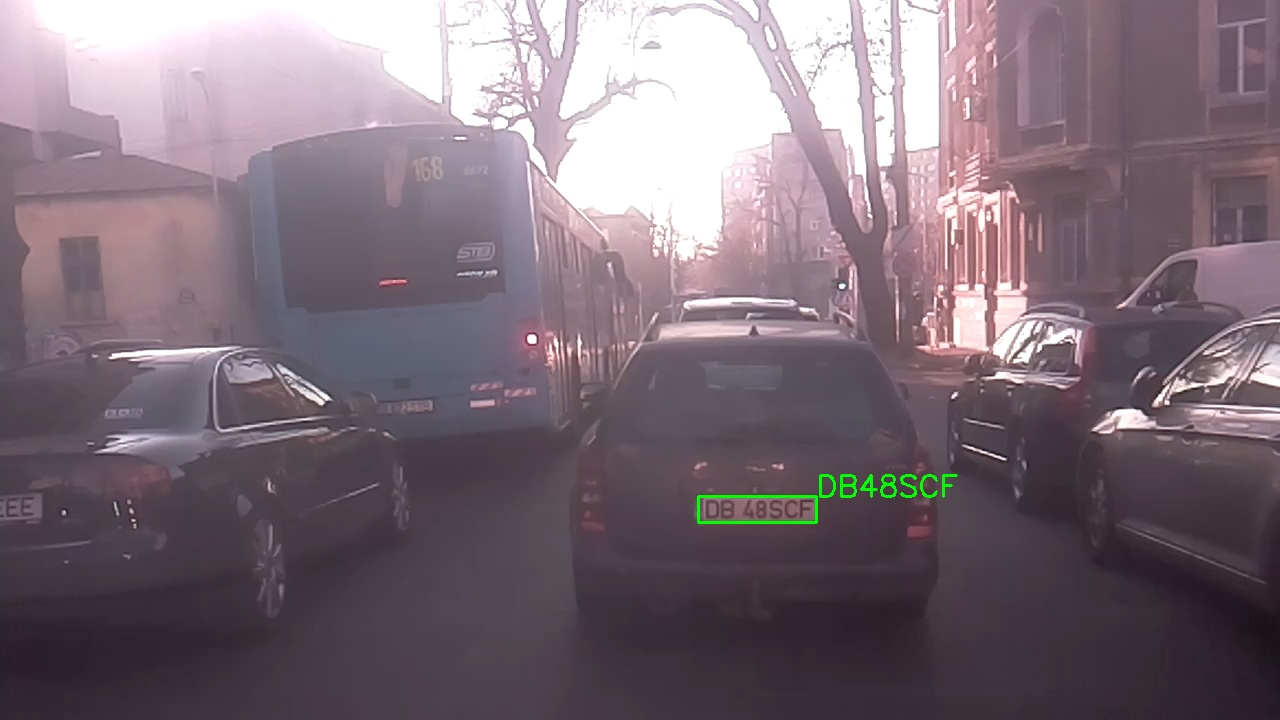license-plate: (698, 496, 817, 523)
